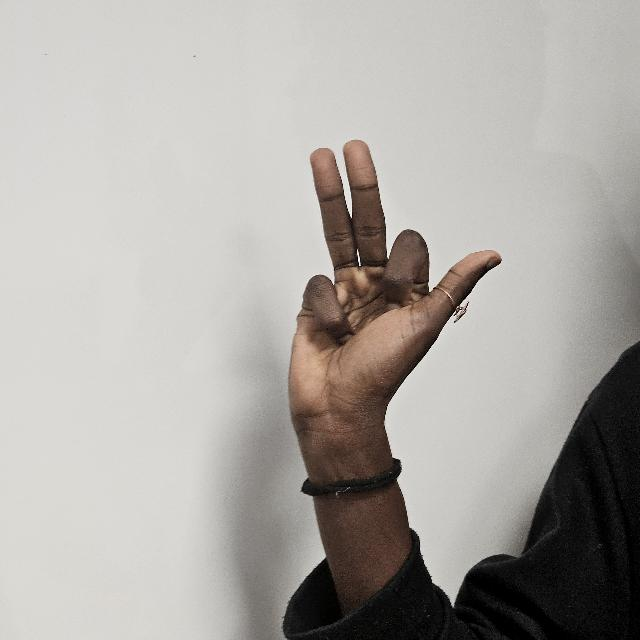R: (288, 124, 502, 480)
